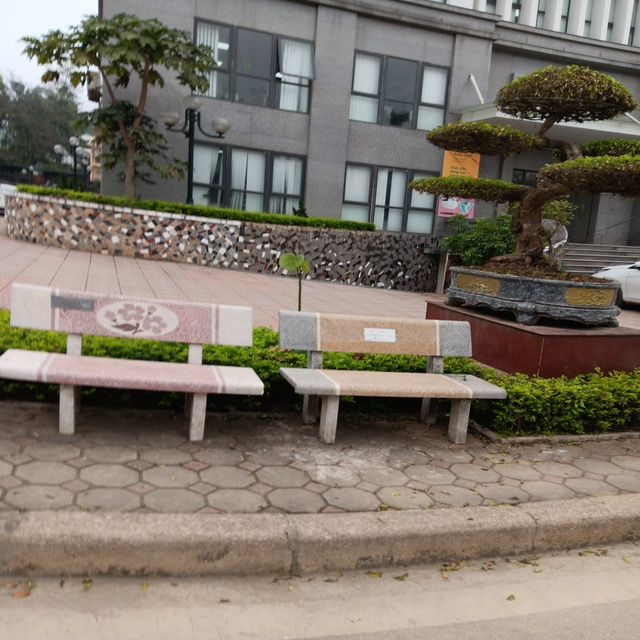gheda: (6, 279, 269, 467), (267, 307, 508, 457)
